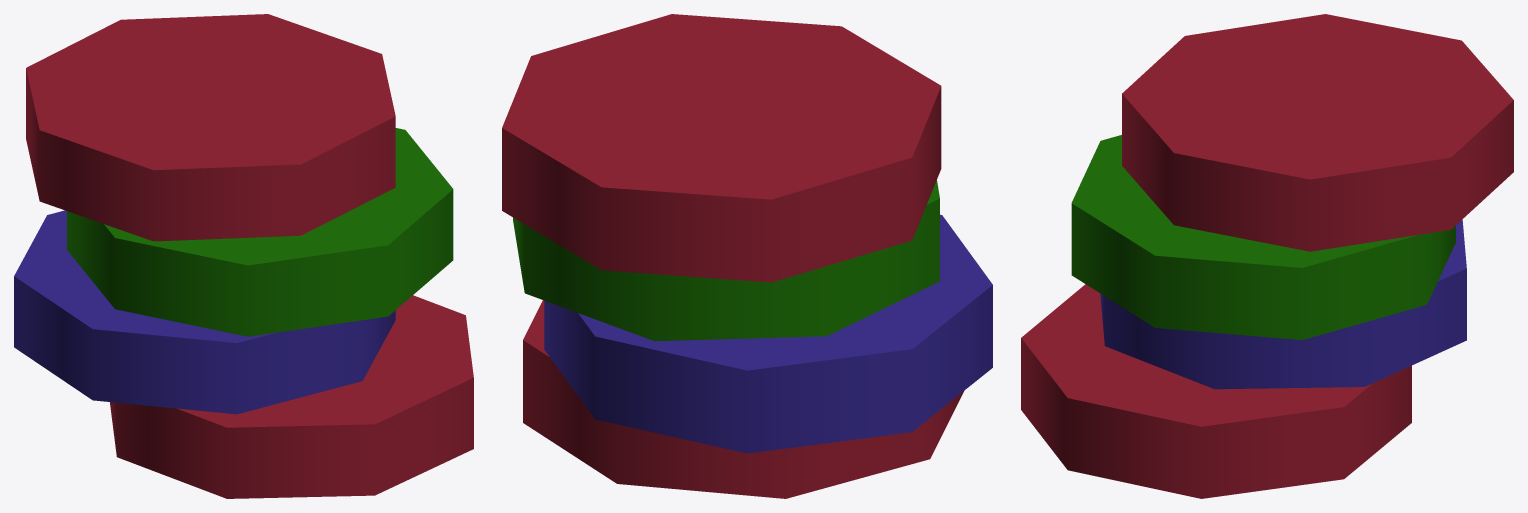
Rendered from moeda_poquer_pilha_tres.fbx.
3 views of the same model, side by side, from view 1: azimuth 30°, elevation 25°; view 2: azimuth 150°, elevation 25°; view 3: azimuth 270°, elevation 25° (orthographic). The views are drawn at different scales.
Parts seen in each view (by area): view 1: moeda_poquer_pilha_tres; view 2: moeda_poquer_pilha_tres; view 3: moeda_poquer_pilha_tres.
Part boxes in pixels (<box>): moeda_poquer_pilha_tres: <box>14,14,473,498</box>; moeda_poquer_pilha_tres: <box>502,14,992,498</box>; moeda_poquer_pilha_tres: <box>1021,14,1513,498</box>.
Size of the model in its own units: 6.16 by 4.68 by 6.86.
